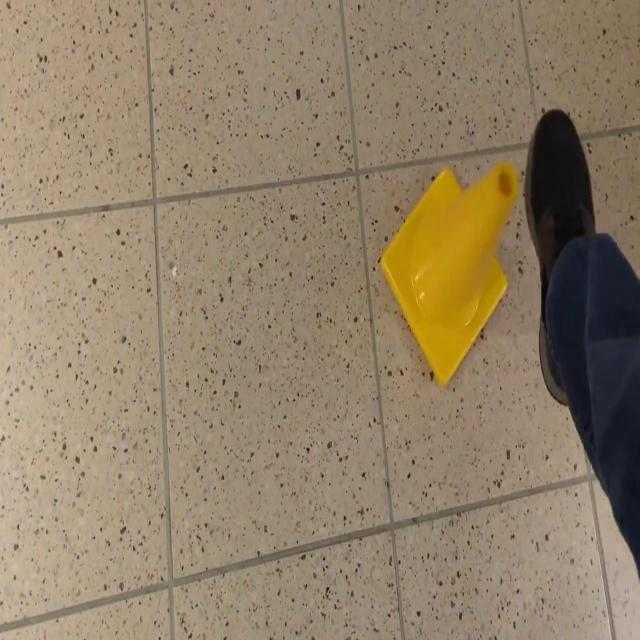frc_cone: (380, 161, 518, 387)
